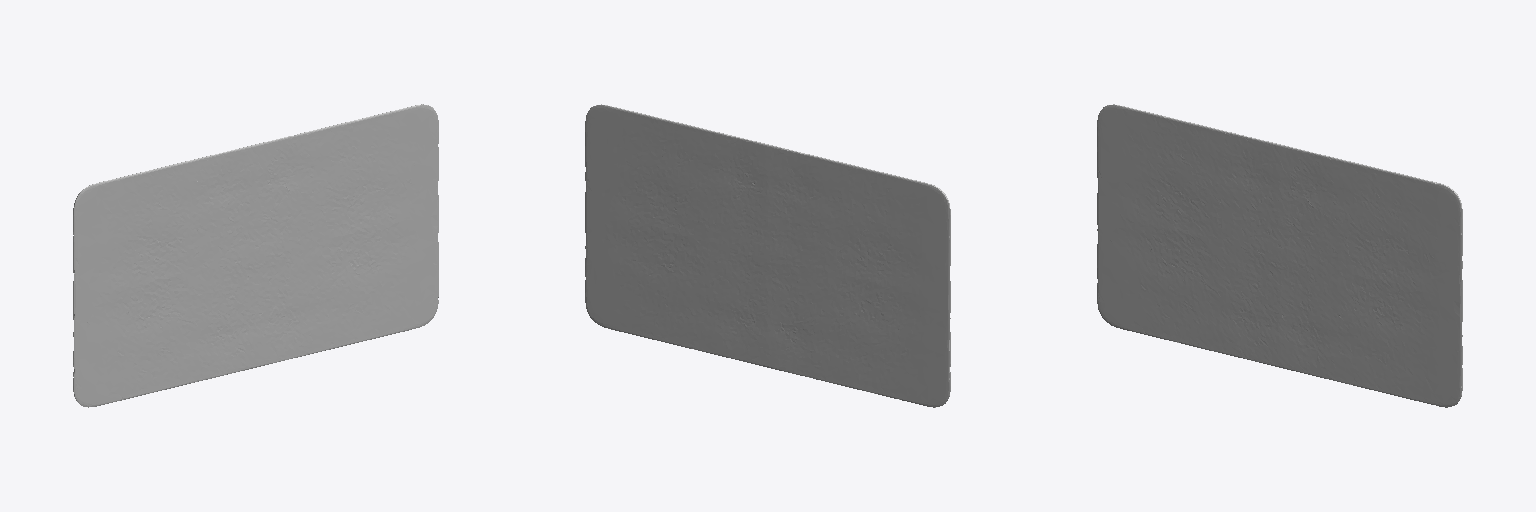
The model's file is Selfie.obj.
3 renders of one model, left to right at view 1: azimuth 30°, elevation 25°; view 2: azimuth 150°, elevation 25°; view 3: azimuth 330°, elevation 25°, orthographic.
Parts seen in each view (by area): view 1: Mesh1; view 2: Mesh1; view 3: Mesh1.
Boxes of the visible parts, x1=… form: Mesh1: x1=73, y1=104, x2=438, y2=407; Mesh1: x1=585, y1=104, x2=950, y2=407; Mesh1: x1=1097, y1=104, x2=1462, y2=407.
Bounding box in the file's own units: 2 × 1.17 × 0.0123.